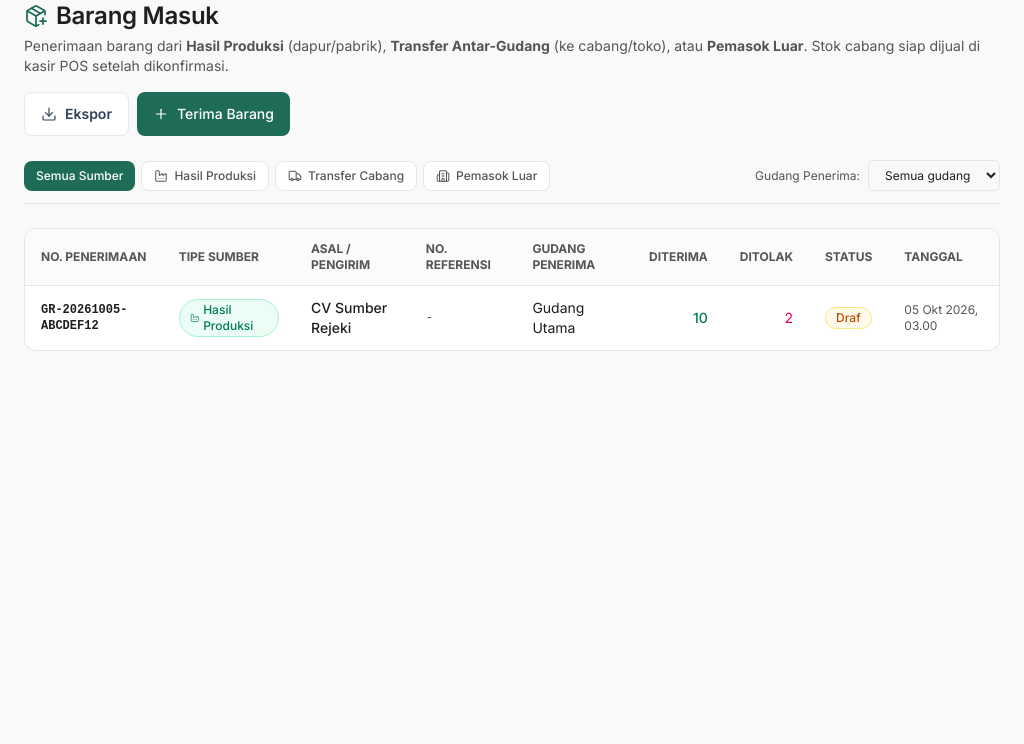
Test case: Barang Masuk page › blocks saving without supplier and items, with a clear message
The image size is (1024, 744).
Click the button "Terima Barang".
click(214, 114)  # box [137, 92, 290, 136]
(page scrolled)
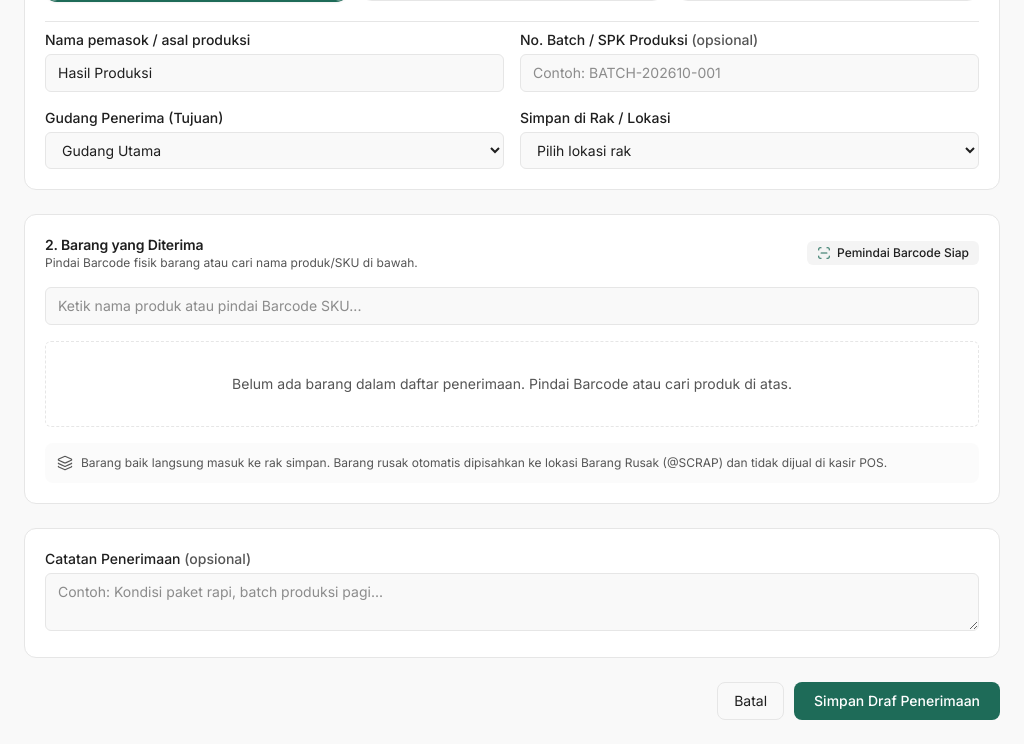
Click the button "Simpan Draf Penerimaan".
click(897, 701)  # box [794, 682, 1000, 720]
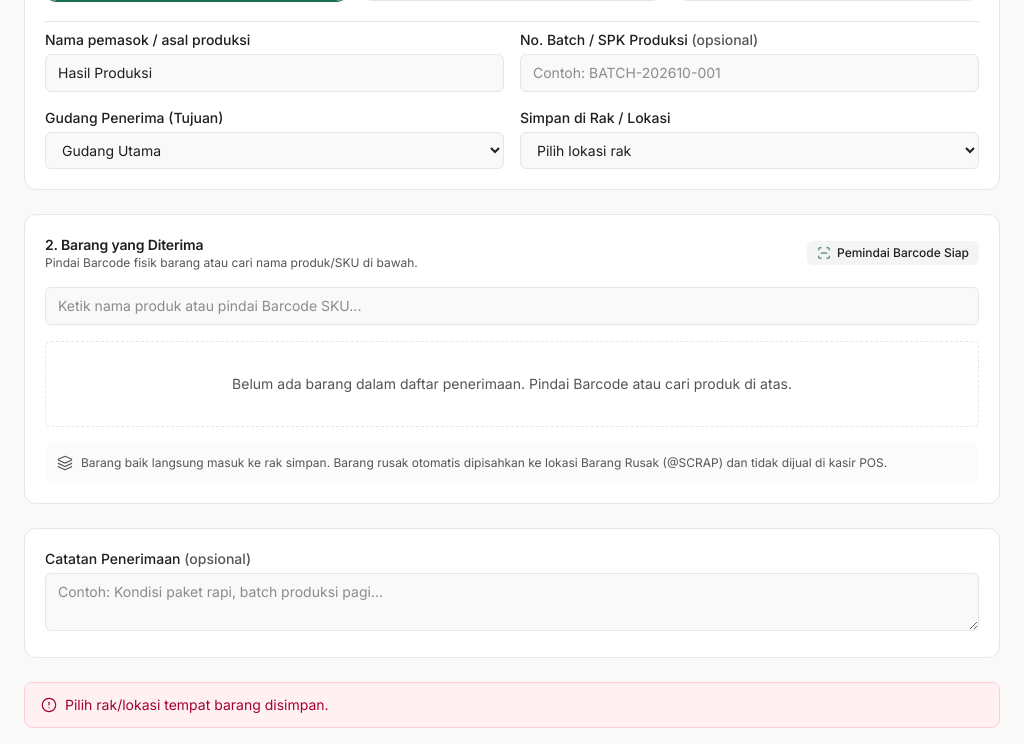
Expected: the message reads "Pilih rak/lokasi tempat barang disimpan.", [65, 696, 329, 713]
